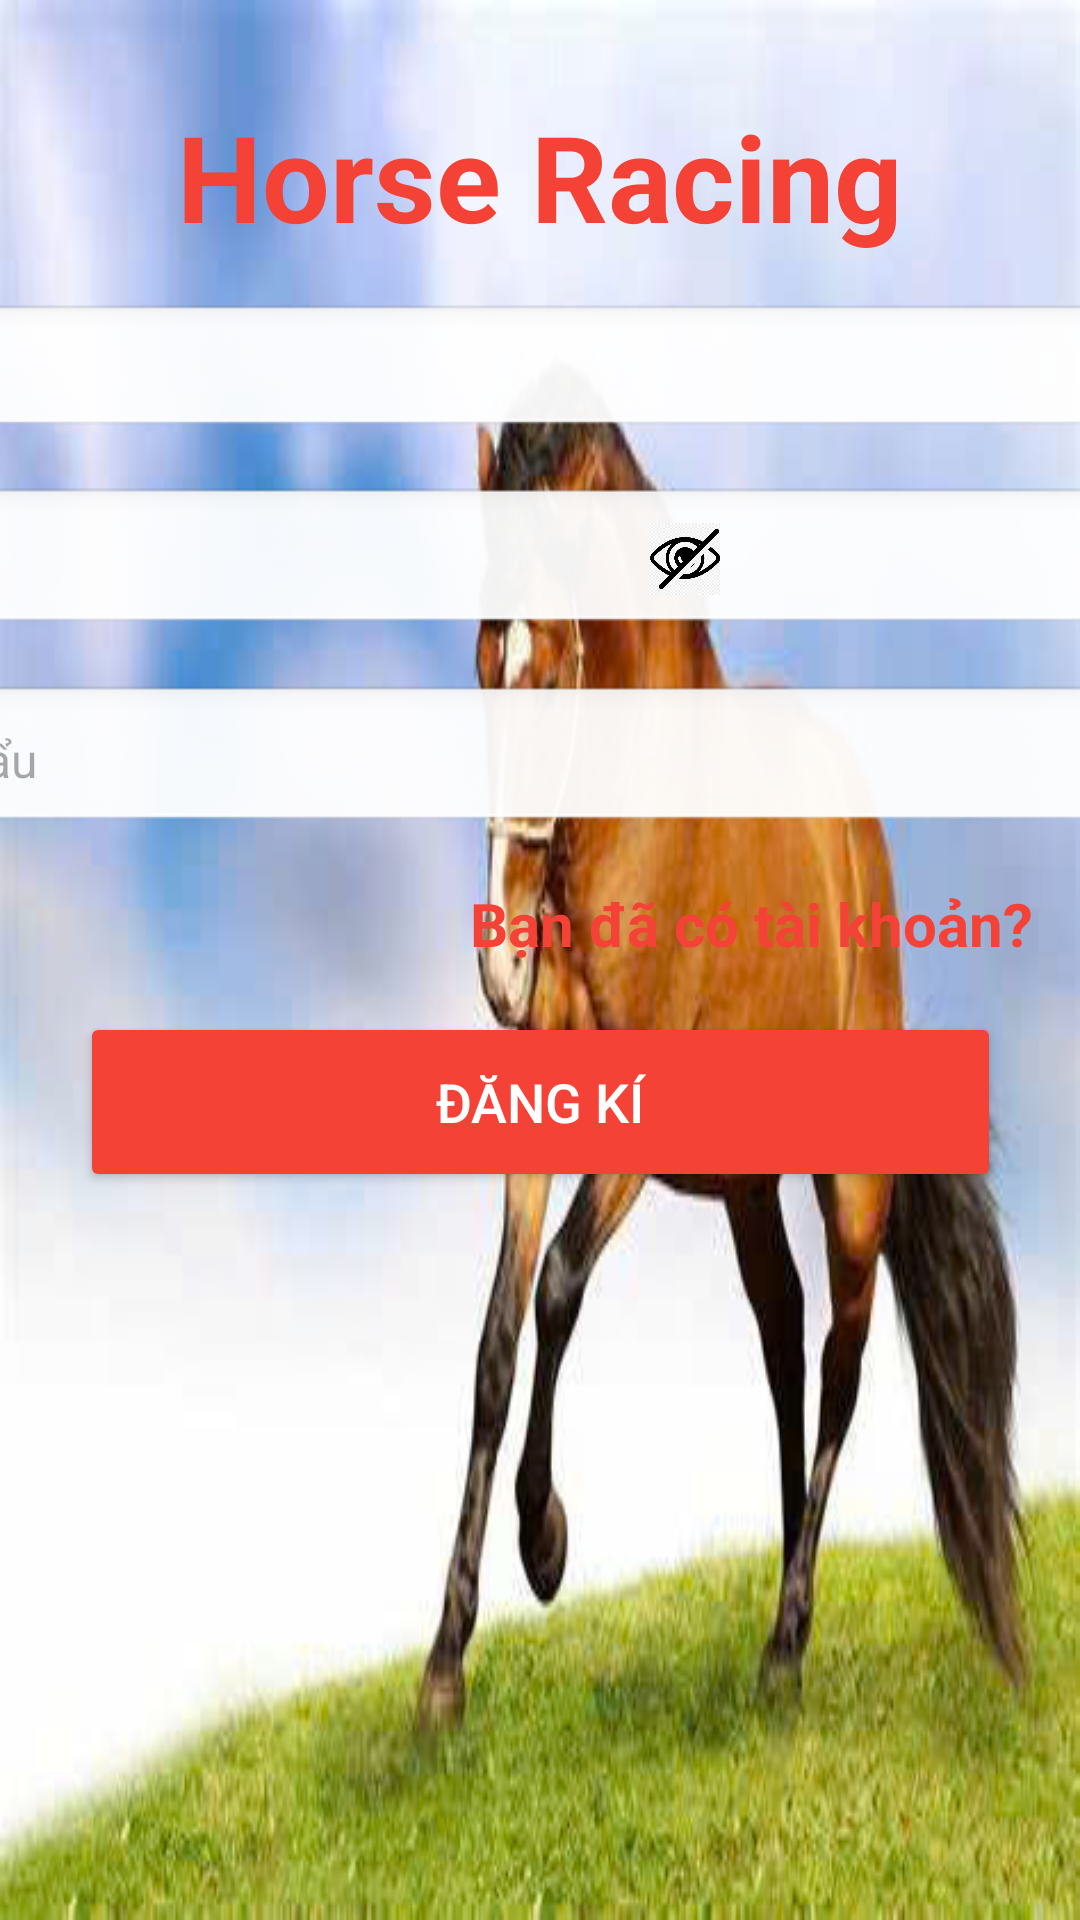

Point at icon controls on the screen. Image size 1080px×1920px, points as [x,y].
eye closed: [685,559]
